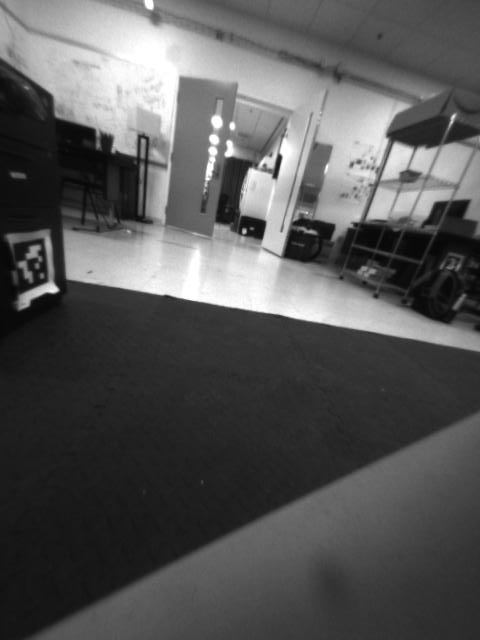drawer: (1, 73, 49, 130)
